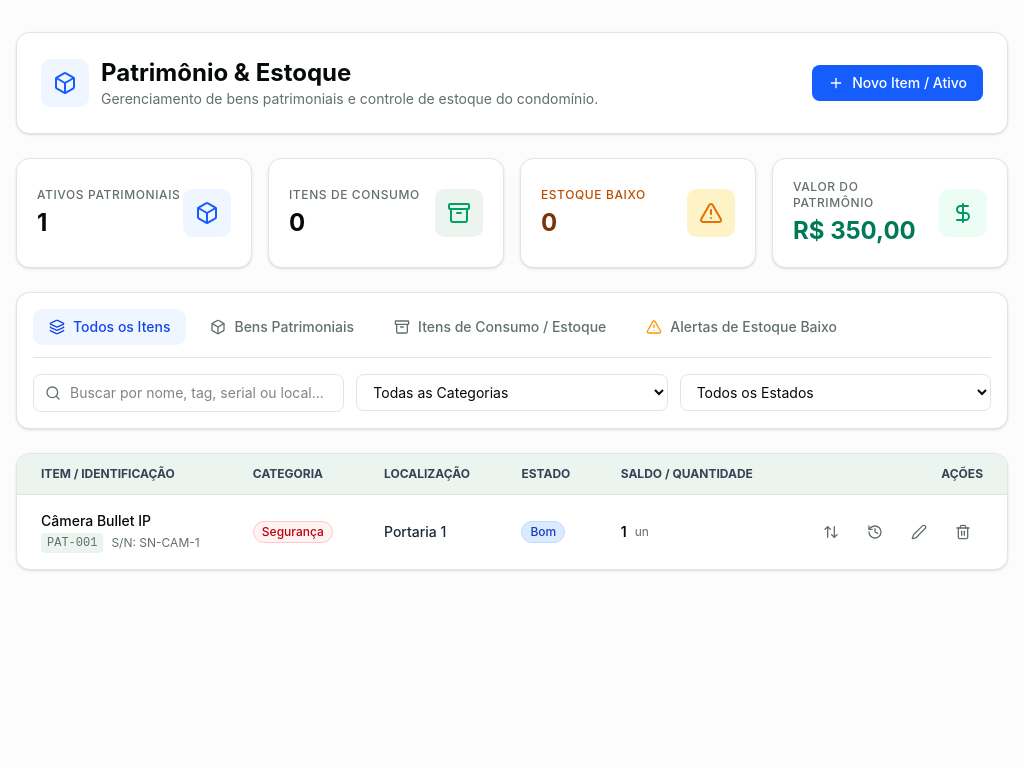
AssetsInventoryPage component › opens stock movement modal on table action click
This screenshot has width=1024, height=768.
Expected: the text "Câmera Bullet IP" is shown, [41,512,151,529]
Click the button titled "Movimentar". click: point(831, 532)
box: [811,516,851,548]
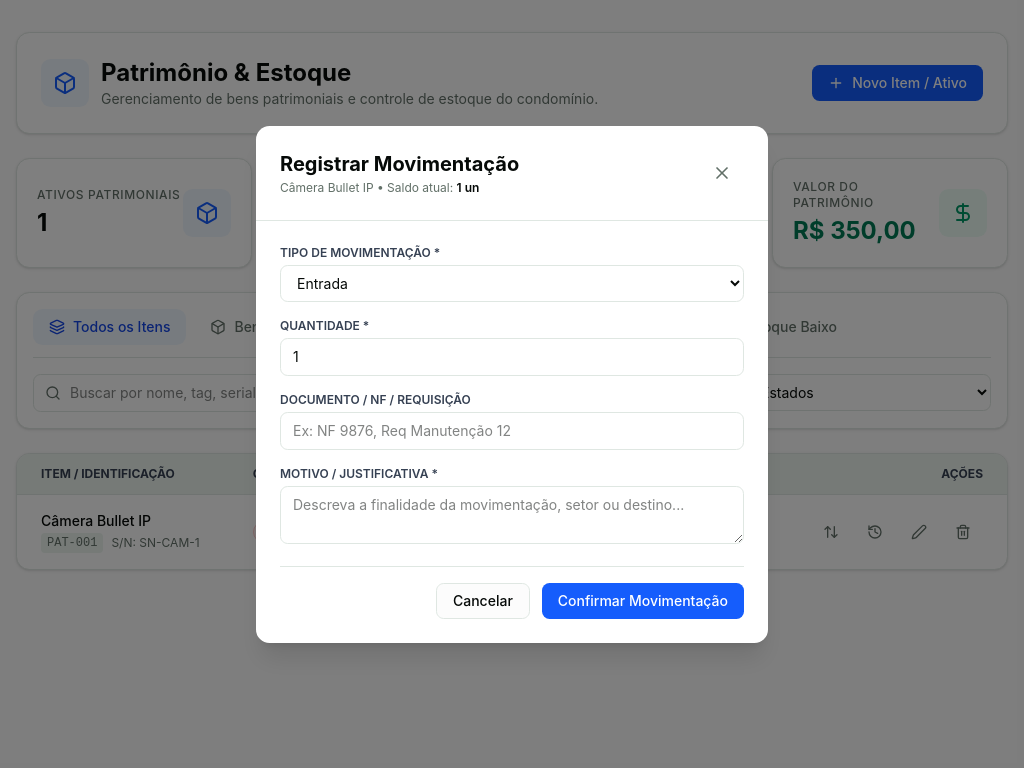
Now the heading "Registrar Movimentação" is shown, box [280,150,519,178]
